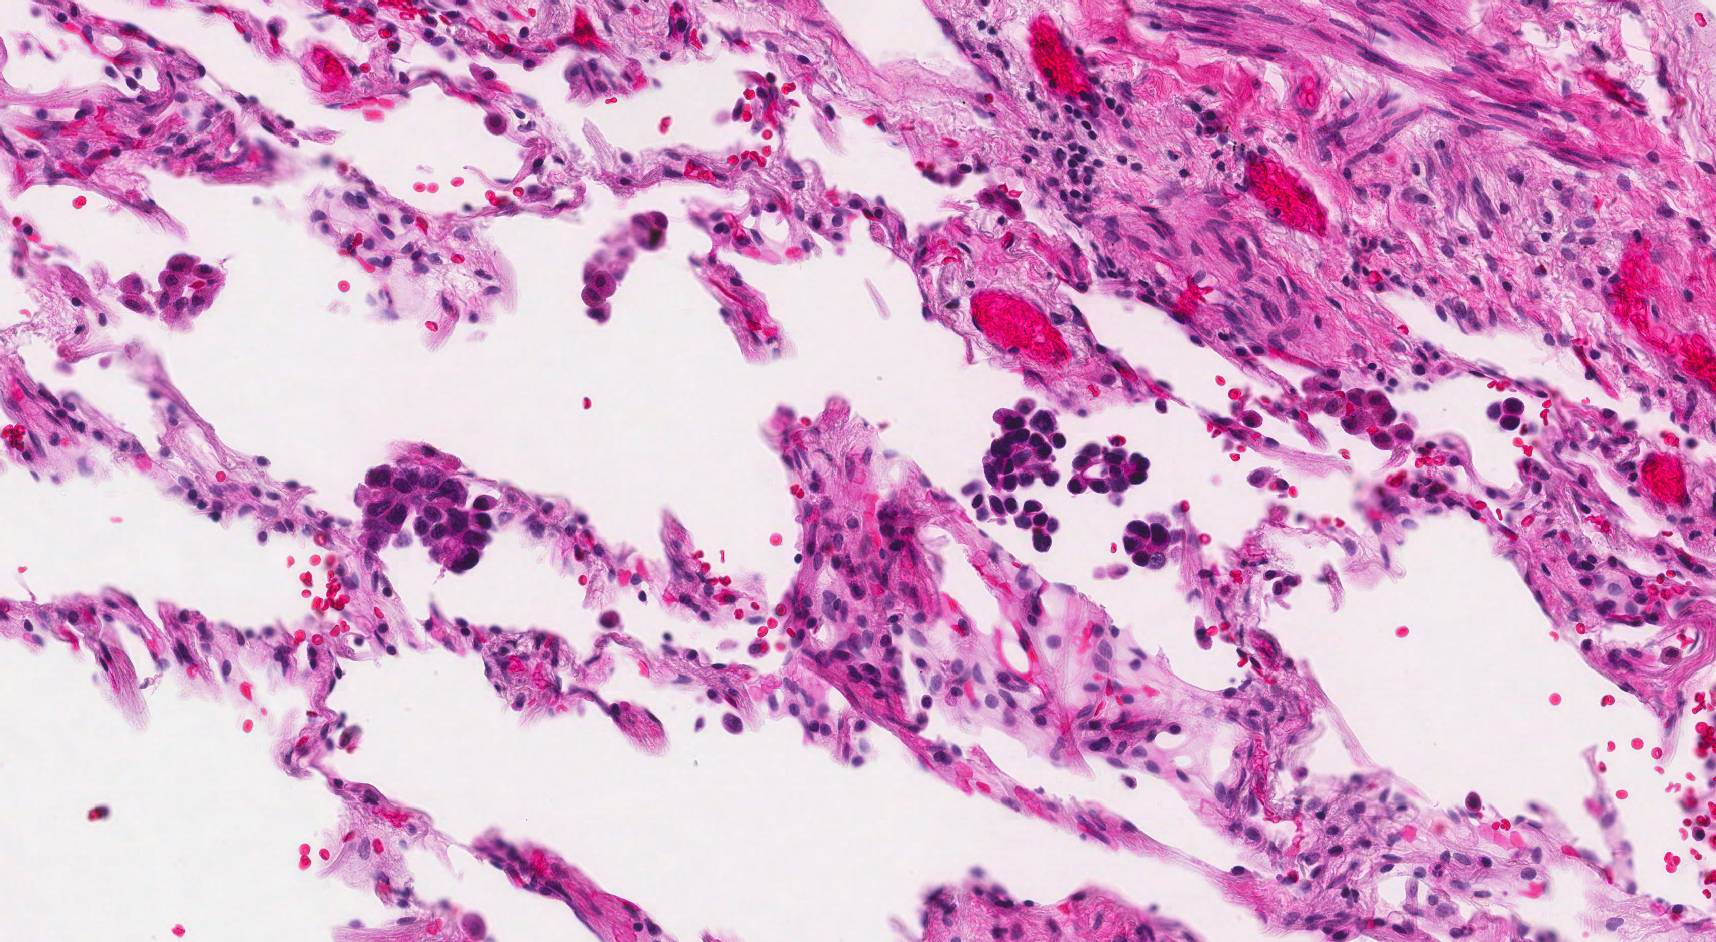stas: (354, 466, 497, 574), (979, 401, 1068, 490), (962, 479, 1061, 555), (1066, 443, 1154, 495), (1121, 518, 1174, 569), (1486, 395, 1524, 432)
